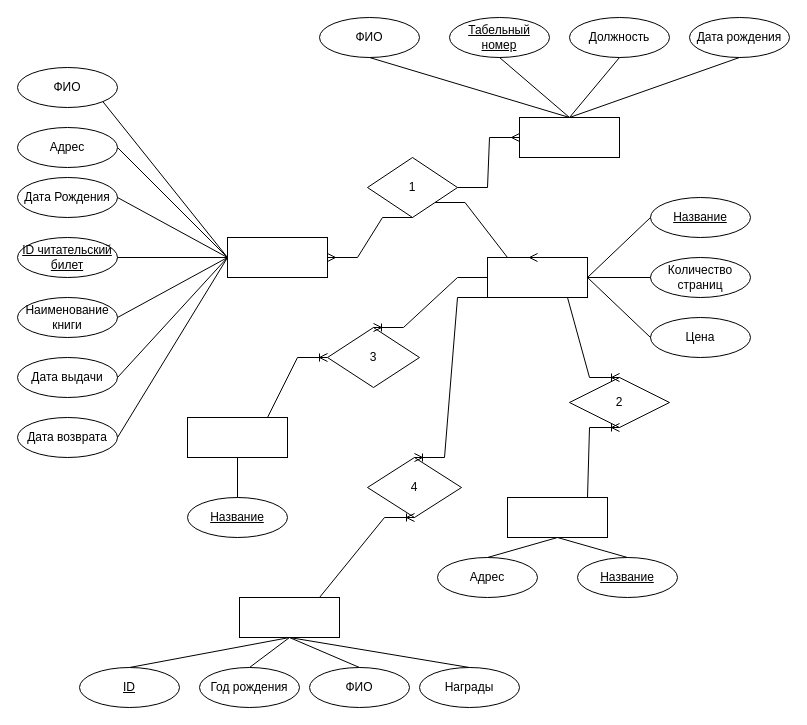
This 807x725 diagram has some shape labels left out. Each missing label, with the centre of its shape:
"Автор" belongs at point 289,617.
"Жанр" belongs at point 237,437.
"Издательство" belongs at point 557,517.
"Книга" belongs at point 537,277.
"Сотрудник" belongs at point 569,137.
"Читатели" belongs at point 277,257.
